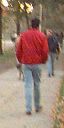person: (18, 15, 46, 114)
